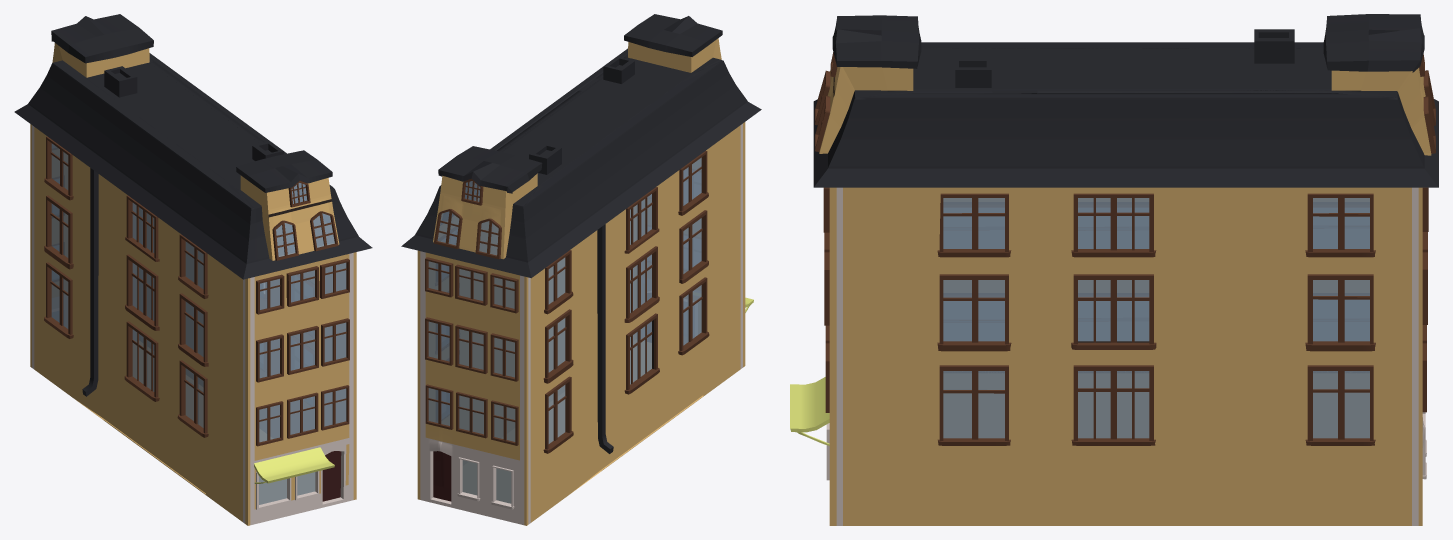
File: HUs_42.fbx
3 views of the same model, side by side, from view 1: azimuth 30°, elevation 25°; view 2: azimuth 150°, elevation 25°; view 3: azimuth 270°, elevation 25° (orthographic). The views are drawn at different scales.
Visible parts, largest first — view 1: hus4:null7; view 2: hus4:null7; view 3: hus4:null7.
Part boxes in pixels (x1=…): hus4:null7: x1=14, y1=14, x2=372, y2=525; hus4:null7: x1=401, y1=14, x2=761, y2=525; hus4:null7: x1=790, y1=14, x2=1438, y2=525.
Bounding box in the file's own units: 117 × 281 × 357.
